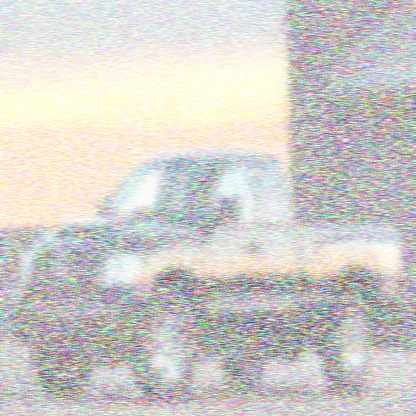Vehicle: (9, 146, 411, 410)
